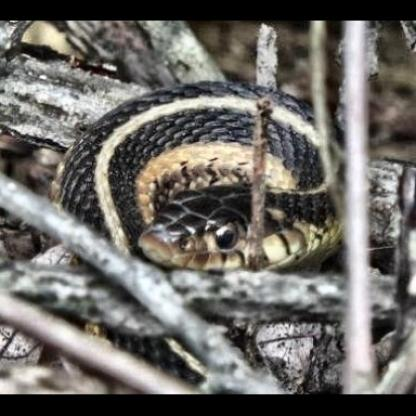Snake: (48, 81, 344, 274)
